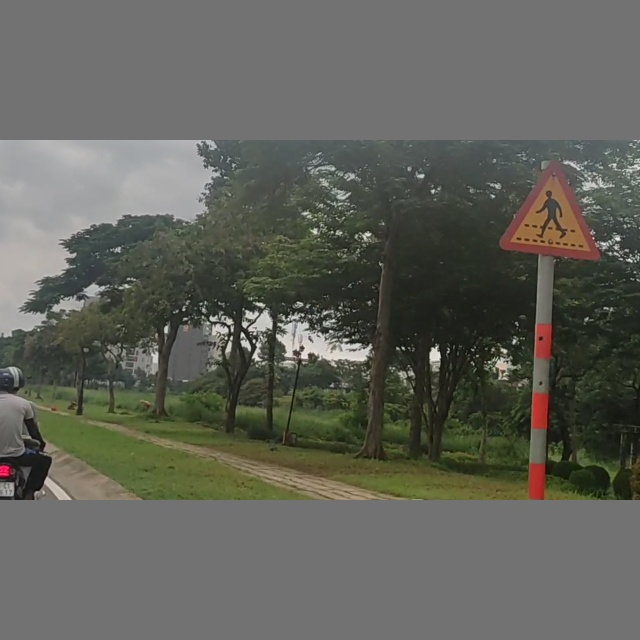W.224: (499, 161, 601, 260)
